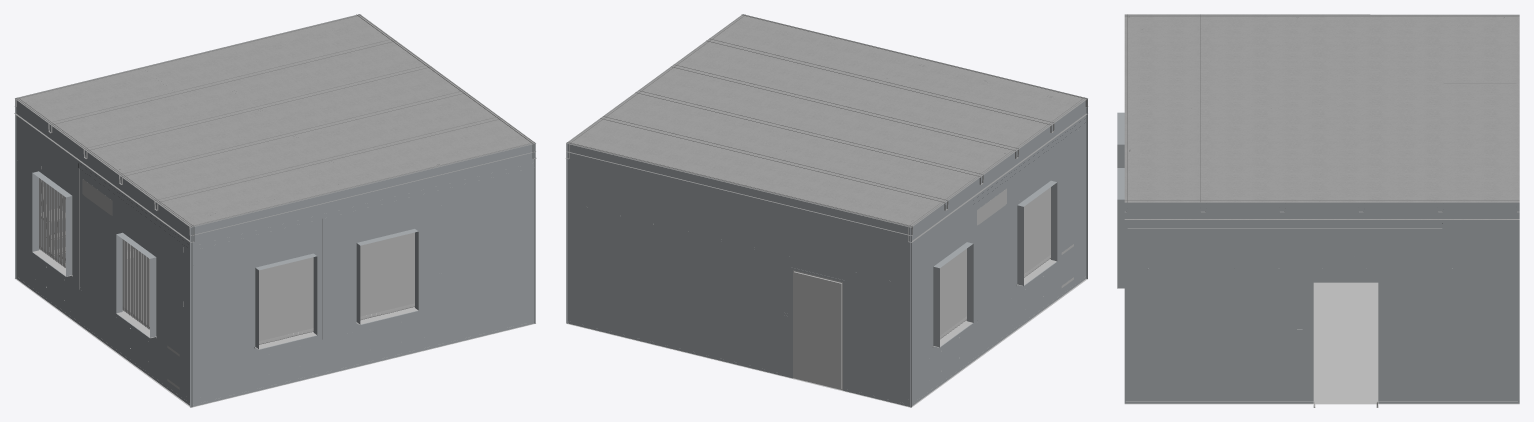
The model's file is mesh_room_rele.fbx.
3 views of the same model, side by side, from view 1: azimuth 30°, elevation 25°; view 2: azimuth 150°, elevation 25°; view 3: azimuth 270°, elevation 25° (orthographic). The views are drawn at different scales.
Visible parts, largest first — view 1: room_main, windows, conditioner_inside; view 2: room_main, windows, conditioner_inside; view 3: room_main, cable_cover.
Boxes of the visible parts, x1,y1,x2,y2 form: room_main: (14, 14, 536, 407); windows: (33, 166, 418, 349); conditioner_inside: (82, 179, 112, 215); room_main: (565, 14, 1088, 407); windows: (932, 187, 1056, 347); conditioner_inside: (977, 188, 1006, 225); room_main: (1117, 14, 1519, 404); cable_cover: (1128, 83, 1515, 228).
Size of the model in its own units: 729 by 636 by 354.
